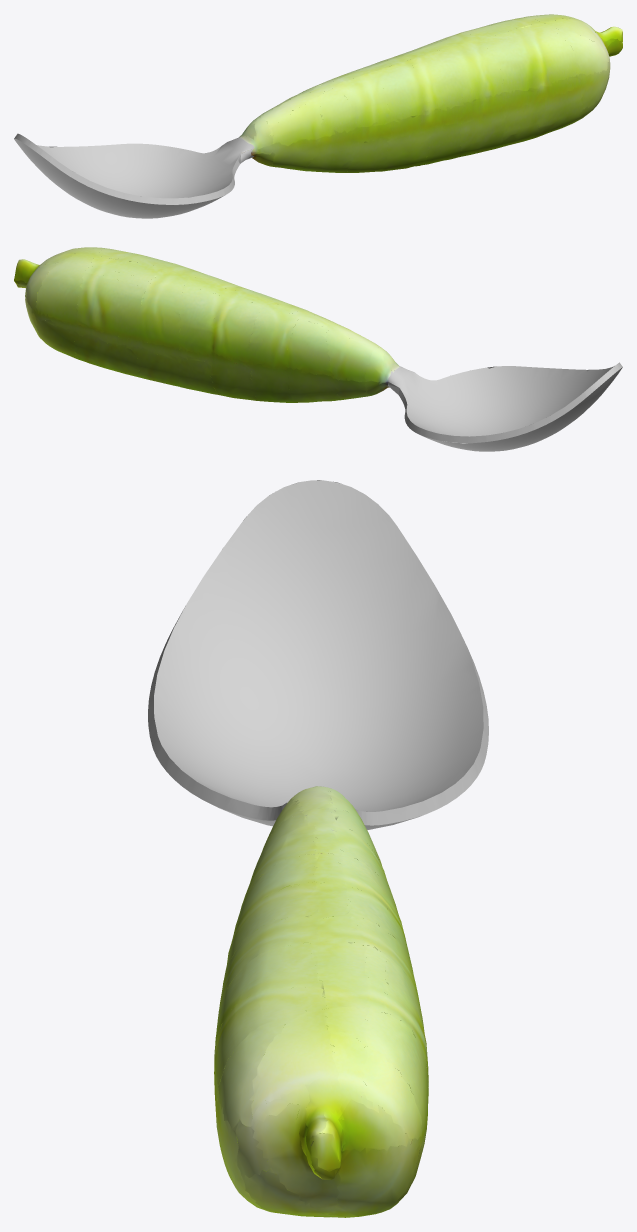
The model's file is image_0001_segmented.glb.
3 renders of one model, top to bottom at view 1: azimuth 30°, elevation 25°; view 2: azimuth 150°, elevation 25°; view 3: azimuth 270°, elevation 25°, orthographic. The views are drawn at different scales.
Parts seen in each view (by area): view 1: Model.001; view 2: Model.001; view 3: Model.001.
Part boxes in pixels (left/top/right/bottom): Model.001: left=14, top=14, right=622, bottom=218; Model.001: left=14, top=247, right=622, bottom=451; Model.001: left=148, top=480, right=488, bottom=1217.
Size of the model in its own units: 0.14 by 0.026 by 0.0346.
2 materials, 1 textured.
